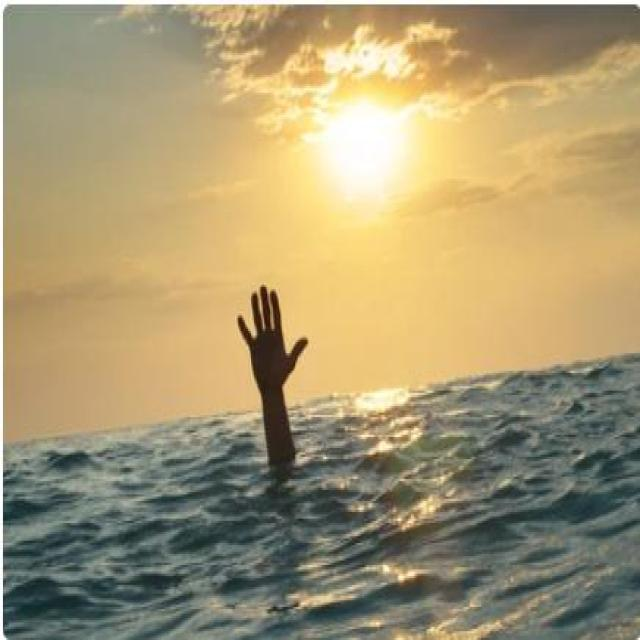Out of Water: (231, 279, 312, 465)
